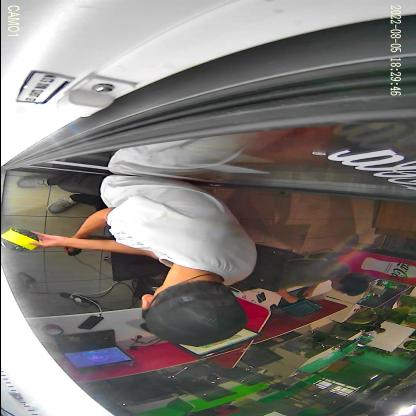yellow: (0, 228, 40, 252)
